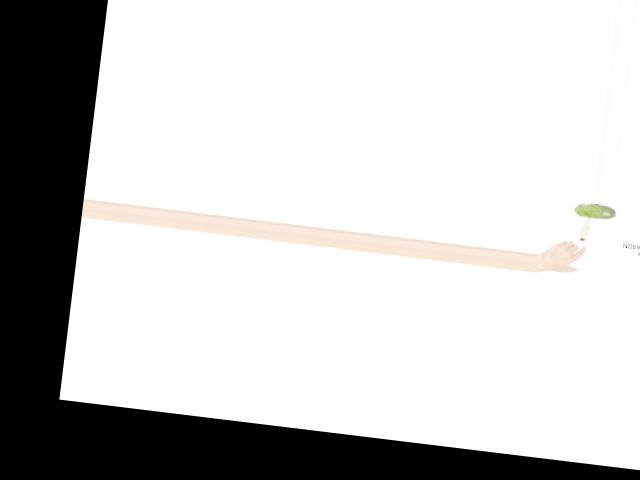cucumber: (573, 202, 616, 220)
